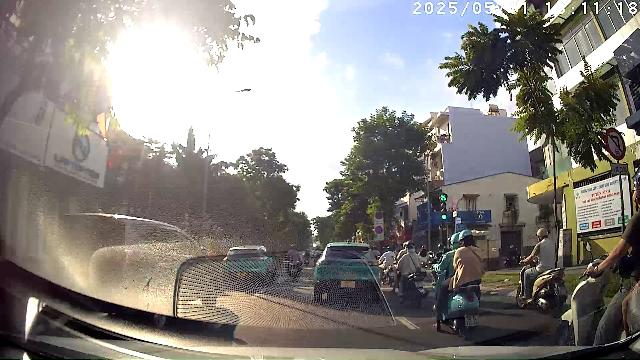103c-cam-oto-re-trai: (606, 128, 626, 160)
